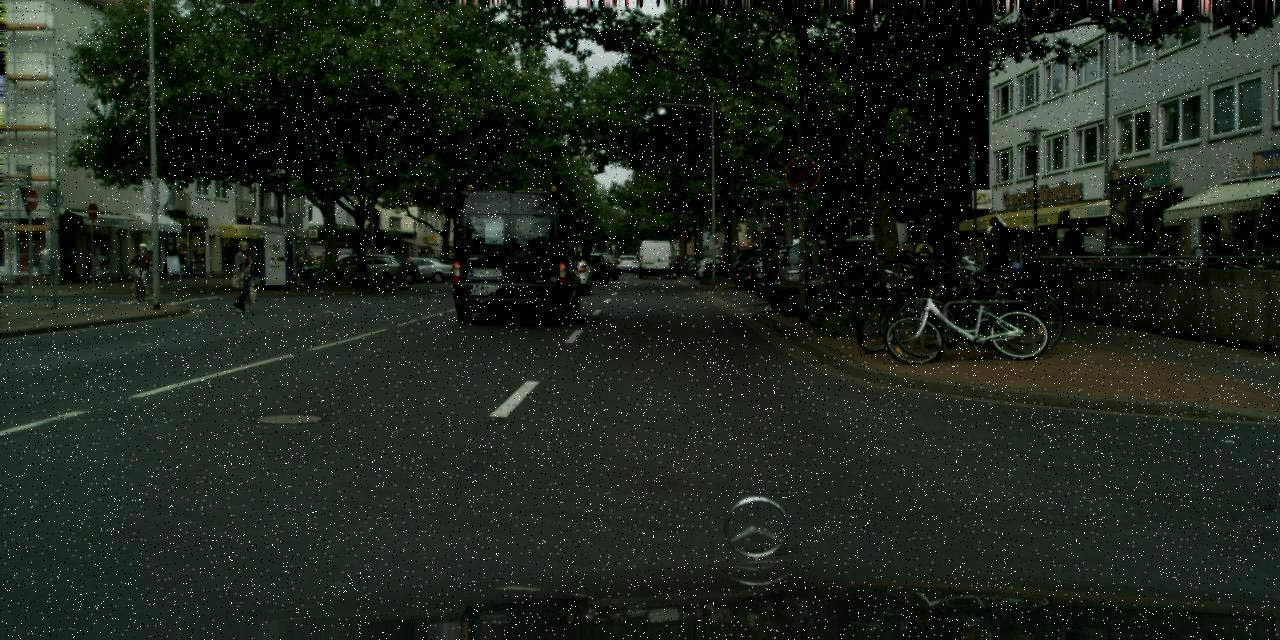ped: (752, 227, 786, 311), (978, 216, 1012, 300), (227, 240, 256, 310), (130, 242, 150, 293), (675, 253, 683, 276)
